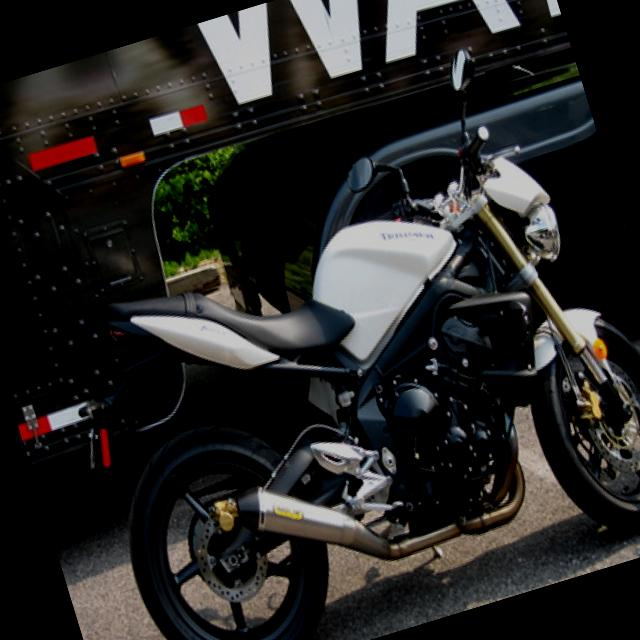Vehicle: (6, 13, 640, 640), (0, 0, 640, 467)
